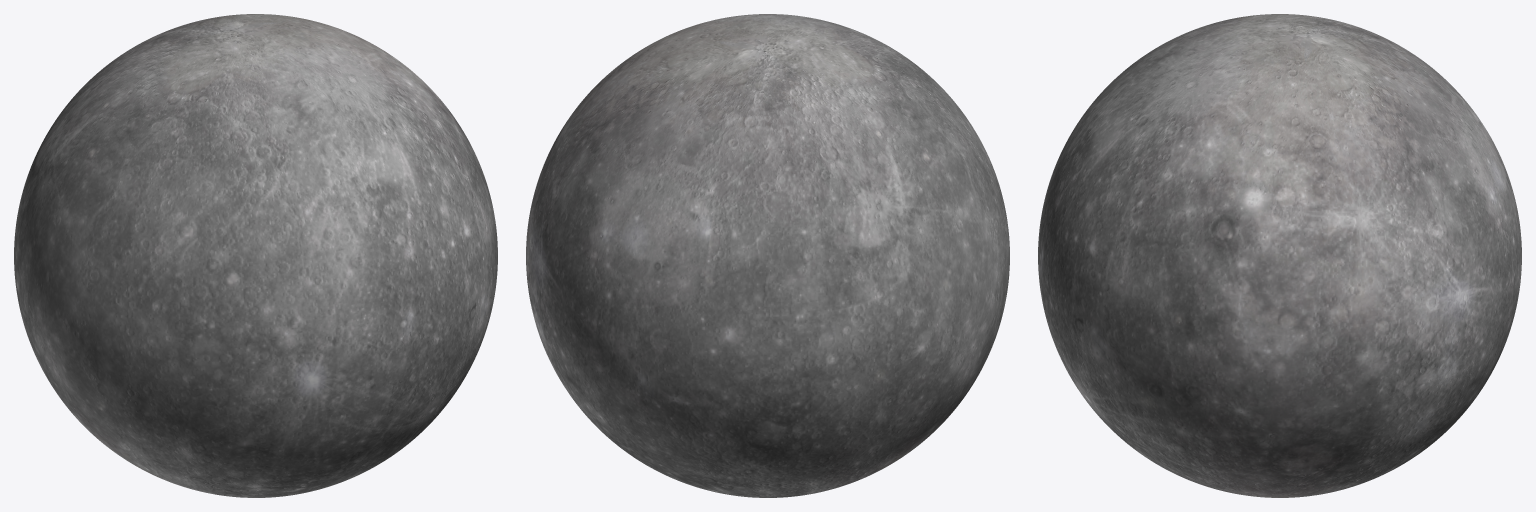
File: mercury.glb
The picture shows the model from 3 angles, left to right: view 1: azimuth 30°, elevation 25°; view 2: azimuth 150°, elevation 25°; view 3: azimuth 270°, elevation 25°; orthographic projection.
Visible parts, largest first — view 1: Mercury; view 2: Mercury; view 3: Mercury.
Boxes of the visible parts, <box> form: Mercury: <box>14,14,497,497</box>; Mercury: <box>526,14,1009,497</box>; Mercury: <box>1038,14,1521,497</box>.
Bounding box in the file's own units: 2.8 × 2.8 × 2.8.
Materials: 1 (1 with a texture image).
